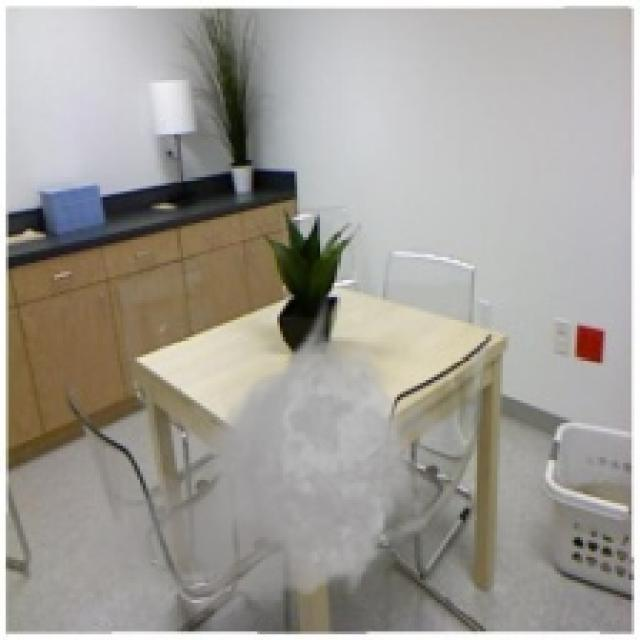Smoke: (74, 288, 454, 632)
